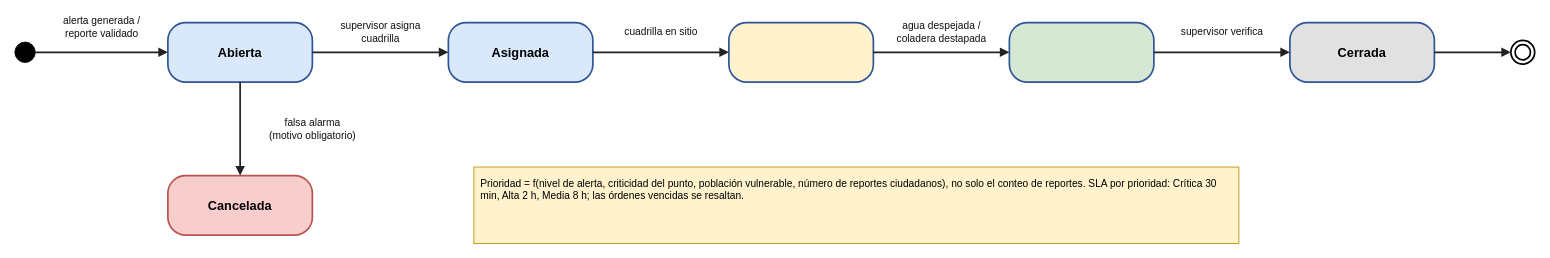
Image size: 1550x258. Some labels were removed from this diagram. Each missing label, with the centre of its shape:
"EnProceso" goes at (801,51).
"Resuelta" goes at (1081,51).
